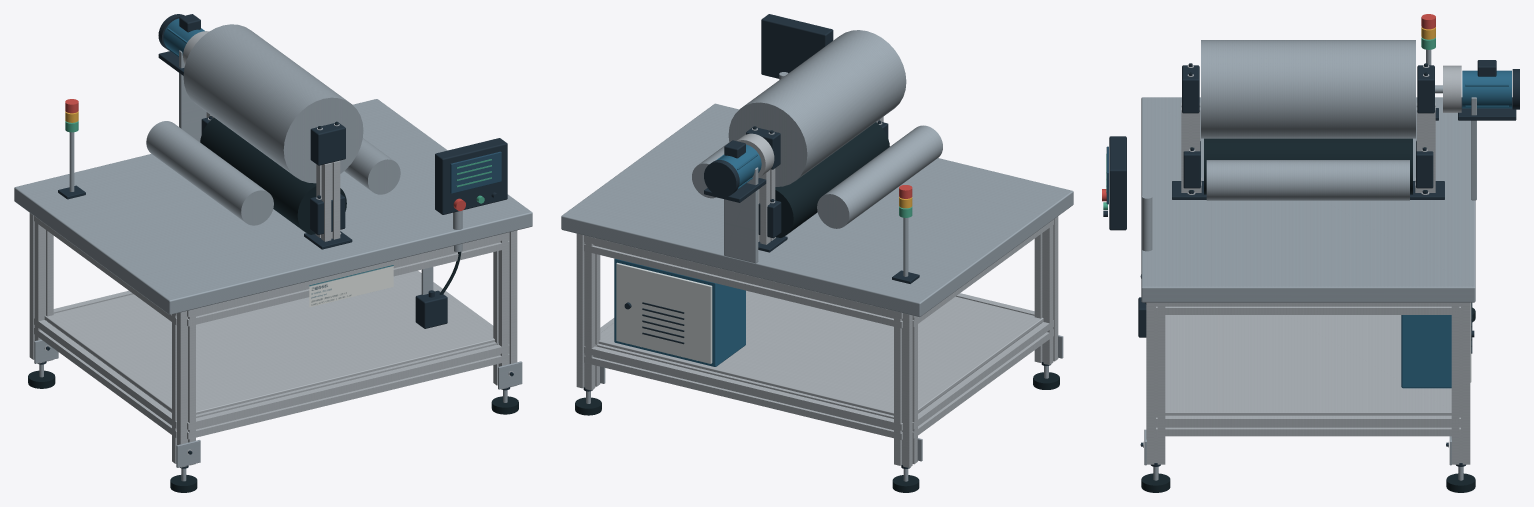
File: plate-rolling-cell.glb
The picture shows the model from 3 angles, left to right: view 1: azimuth 30°, elevation 25°; view 2: azimuth 150°, elevation 25°; view 3: azimuth 270°, elevation 25°; orthographic projection. The views are drawn at different scales.
Parts seen in each view (by area): view 1: ClosedMachineBed_40, LowerShelf_41, WorkingCylinder_71, SlottedExtrusion_34, FormingRoll_134, CounterRoll_109, SlottedExtrusion_35, SlottedExtrusion_11, SlottedExtrusion_36, SlottedExtrusion_27, ConsoleBack_52, SlottedExtrusion_3 (+12 smaller); view 2: ClosedMachineBed_40, LowerShelf_41, WorkingCylinder_71, BackDoor_43, SlottedExtrusion_32, FormingRoll_134, SlottedExtrusion_33, CounterRoll_109, SlottedExtrusion_3, SlottedExtrusion_19, Cabinet_42, ConsoleBack_52 (+10 smaller); view 3: ClosedMachineBed_40, LowerShelf_41, WorkingCylinder_71, FormingRoll_135, SlottedExtrusion_38, CounterRoll_109, SlottedExtrusion_39, Cabinet_42, SlottedExtrusion_27, SlottedExtrusion_19, ConsoleBack_52, MotorBody_97 (+12 smaller).
Boxes of the visible parts, left/top/right/bottom form: ClosedMachineBed_40: left=14, top=99, right=532, bottom=314; LowerShelf_41: left=44, top=272, right=494, bottom=414; WorkingCylinder_71: left=183, top=24, right=363, bottom=183; SlottedExtrusion_34: left=187, top=342, right=509, bottom=439; FormingRoll_134: left=146, top=121, right=273, bottom=225; CounterRoll_109: left=200, top=117, right=346, bottom=234; SlottedExtrusion_35: left=187, top=232, right=509, bottom=326; SlottedExtrusion_11: left=172, top=309, right=195, bottom=467; SlottedExtrusion_36: left=34, top=318, right=176, bottom=437; SlottedExtrusion_27: left=493, top=230, right=517, bottom=389; ConsoleBack_52: left=435, top=138, right=507, bottom=214; SlottedExtrusion_3: left=29, top=213, right=53, bottom=363; ClosedMachineBed_40: left=561, top=103, right=1073, bottom=317; LowerShelf_41: left=598, top=290, right=1043, bottom=415; WorkingCylinder_71: left=728, top=30, right=906, bottom=186; BackDoor_43: left=616, top=262, right=712, bottom=363; SlottedExtrusion_32: left=584, top=343, right=902, bottom=439; FormingRoll_134: left=817, top=125, right=942, bottom=228; SlottedExtrusion_33: left=584, top=235, right=902, bottom=328; CounterRoll_109: left=775, top=122, right=889, bottom=237; SlottedExtrusion_3: left=894, top=311, right=917, bottom=467; SlottedExtrusion_19: left=576, top=233, right=600, bottom=390; Cabinet_42: left=614, top=258, right=745, bottom=366; ConsoleBack_52: left=761, top=14, right=833, bottom=78; ClosedMachineBed_40: left=1141, top=97, right=1475, bottom=302; LowerShelf_41: left=1165, top=315, right=1451, bottom=415; WorkingCylinder_71: left=1201, top=40, right=1415, bottom=138; FormingRoll_135: left=1206, top=160, right=1409, bottom=200; SlottedExtrusion_38: left=1156, top=415, right=1460, bottom=436; CounterRoll_109: left=1204, top=138, right=1412, bottom=194; SlottedExtrusion_39: left=1156, top=302, right=1460, bottom=314; Cabinet_42: left=1401, top=315, right=1451, bottom=388; SlottedExtrusion_27: left=1146, top=302, right=1165, bottom=464; SlottedExtrusion_19: left=1451, top=302, right=1470, bottom=464; ConsoleBack_52: left=1109, top=136, right=1126, bottom=230; MotorBody_97: left=1462, top=70, right=1511, bottom=108.
Size of the model in its own units: 1.55 by 1.36 by 1.44.
Materials: 11 (3 with a texture image).
